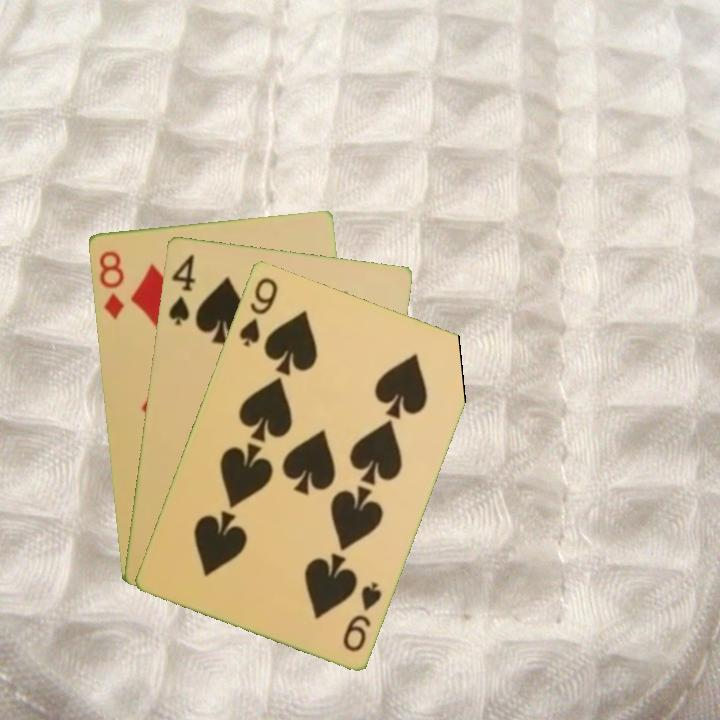4s: (164, 250, 197, 328)
8d: (95, 247, 126, 322)
9s: (339, 577, 385, 654), (235, 273, 281, 349)
